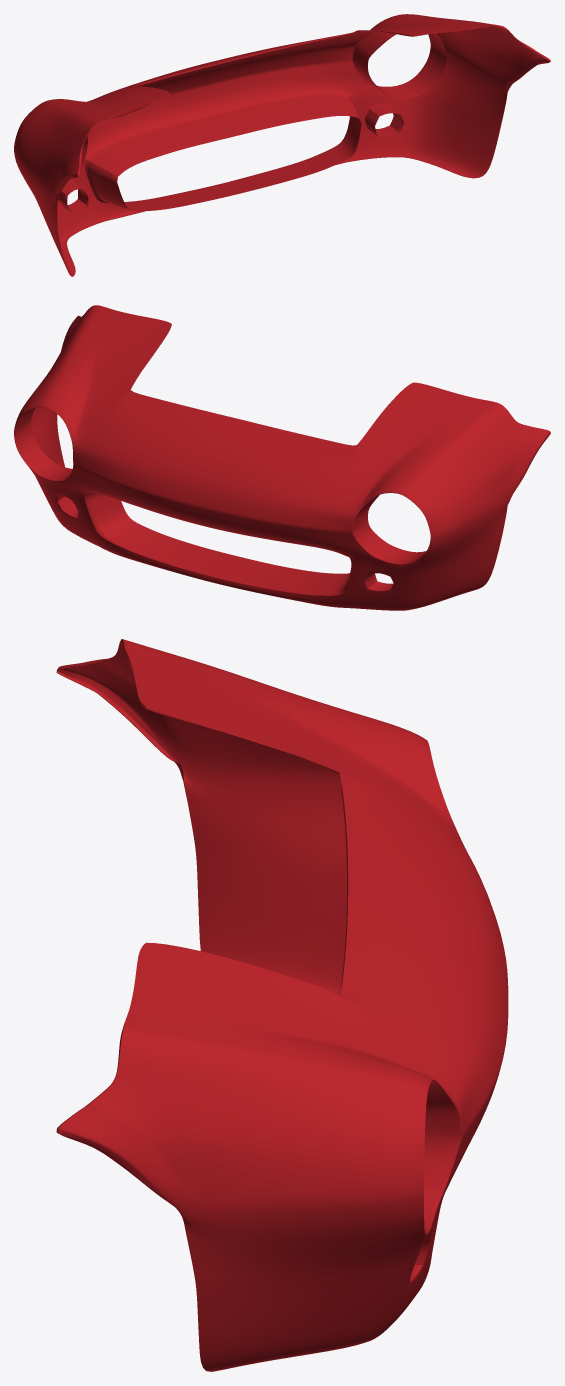
Rendered from pitcrew.glb.
3 renders of one model, top to bottom at view 1: azimuth 30°, elevation 25°; view 2: azimuth 150°, elevation 25°; view 3: azimuth 270°, elevation 25°, orthographic. The views are drawn at different scales.
Visible parts, largest first — view 1: Miata_Aero_FrontBarPitcrew; view 2: Miata_Aero_FrontBarPitcrew; view 3: Miata_Aero_FrontBarPitcrew.
Part boxes in pixels (x1=…): Miata_Aero_FrontBarPitcrew: x1=14, y1=14, x2=550, y2=276; Miata_Aero_FrontBarPitcrew: x1=14, y1=305, x2=550, y2=610; Miata_Aero_FrontBarPitcrew: x1=56, y1=639, x2=508, y2=1371.
Bounding box in the file's own units: 66.71 × 24.12 × 27.56.
